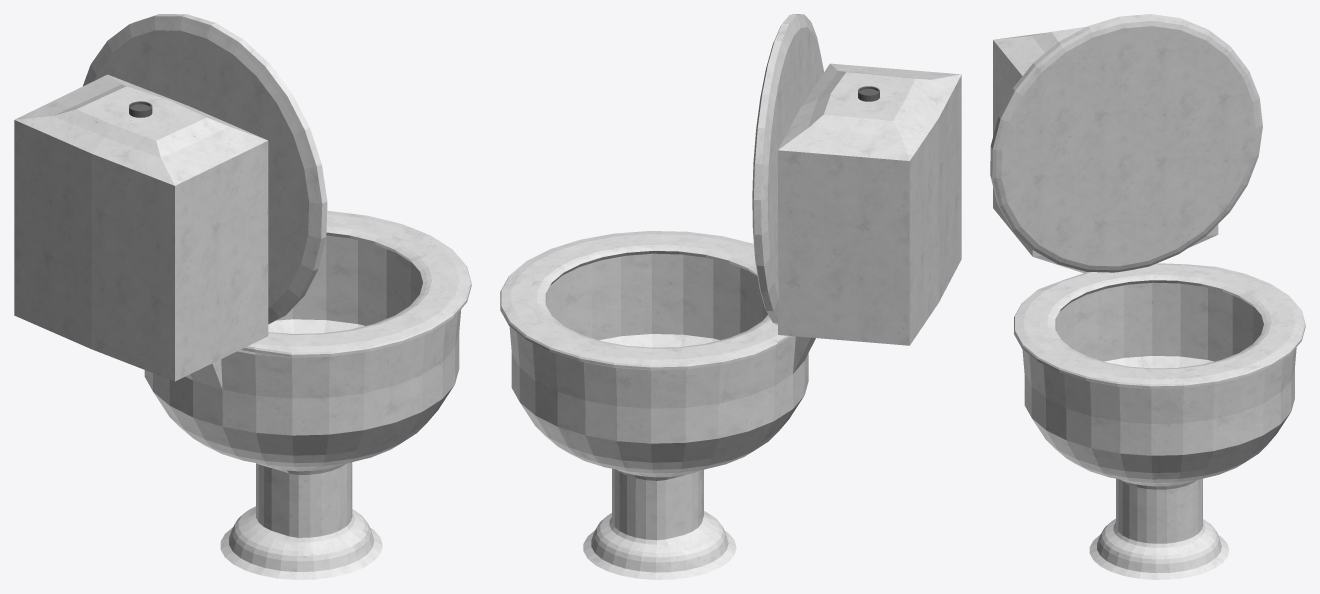
Rendered from vater.fbx.
3 views of the same model, side by side, from view 1: azimuth 30°, elevation 25°; view 2: azimuth 150°, elevation 25°; view 3: azimuth 270°, elevation 25° (orthographic). The views are drawn at different scales.
Visible parts, largest first — view 1: toilet:Mesh; view 2: toilet:Mesh; view 3: toilet:Mesh.
Part boxes in pixels (box(x1,y1,x2,y2)): toilet:Mesh: box(14, 14, 471, 579); toilet:Mesh: box(500, 14, 961, 579); toilet:Mesh: box(990, 14, 1305, 579).
Bounding box in the file's own units: 4.23 × 5.4 × 3.18.
3 materials, 1 textured.
